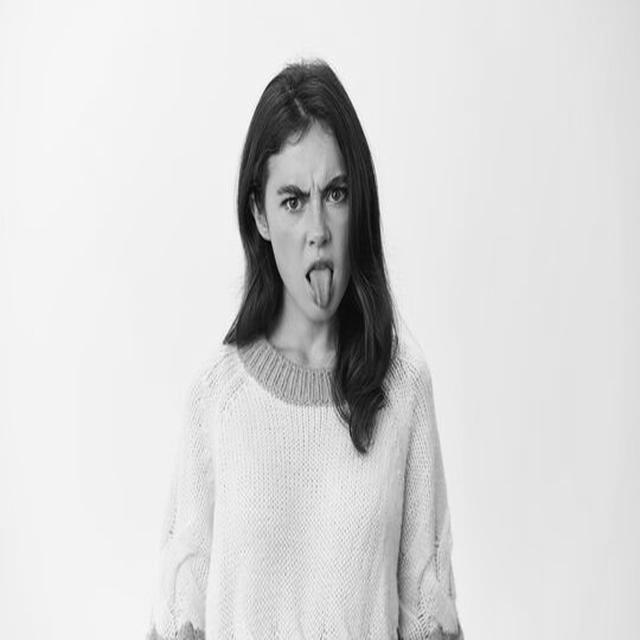Disgust: (264, 124, 356, 323)
